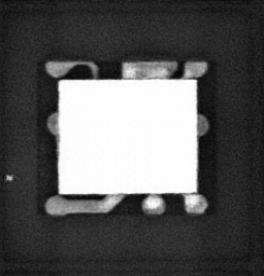DIE_INK: (3, 172, 15, 182)
